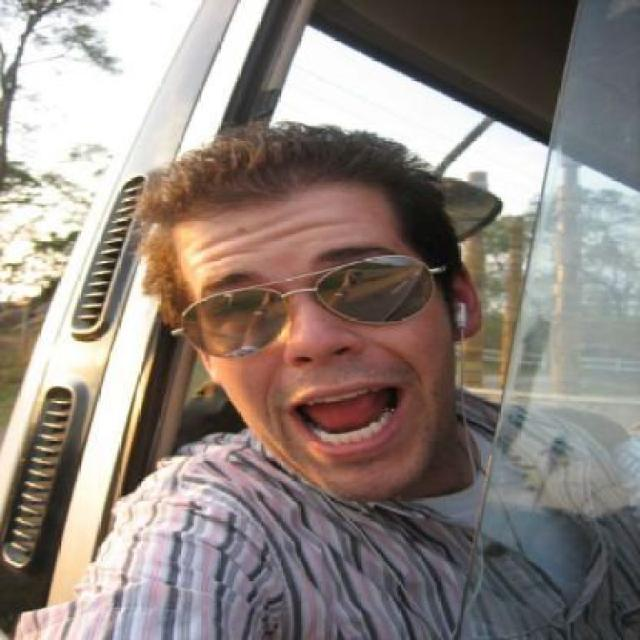face_nomask: (188, 246, 440, 468)
glasses: (161, 239, 456, 347)
head_nohelmet: (141, 106, 410, 232)
person: (74, 121, 640, 640)
